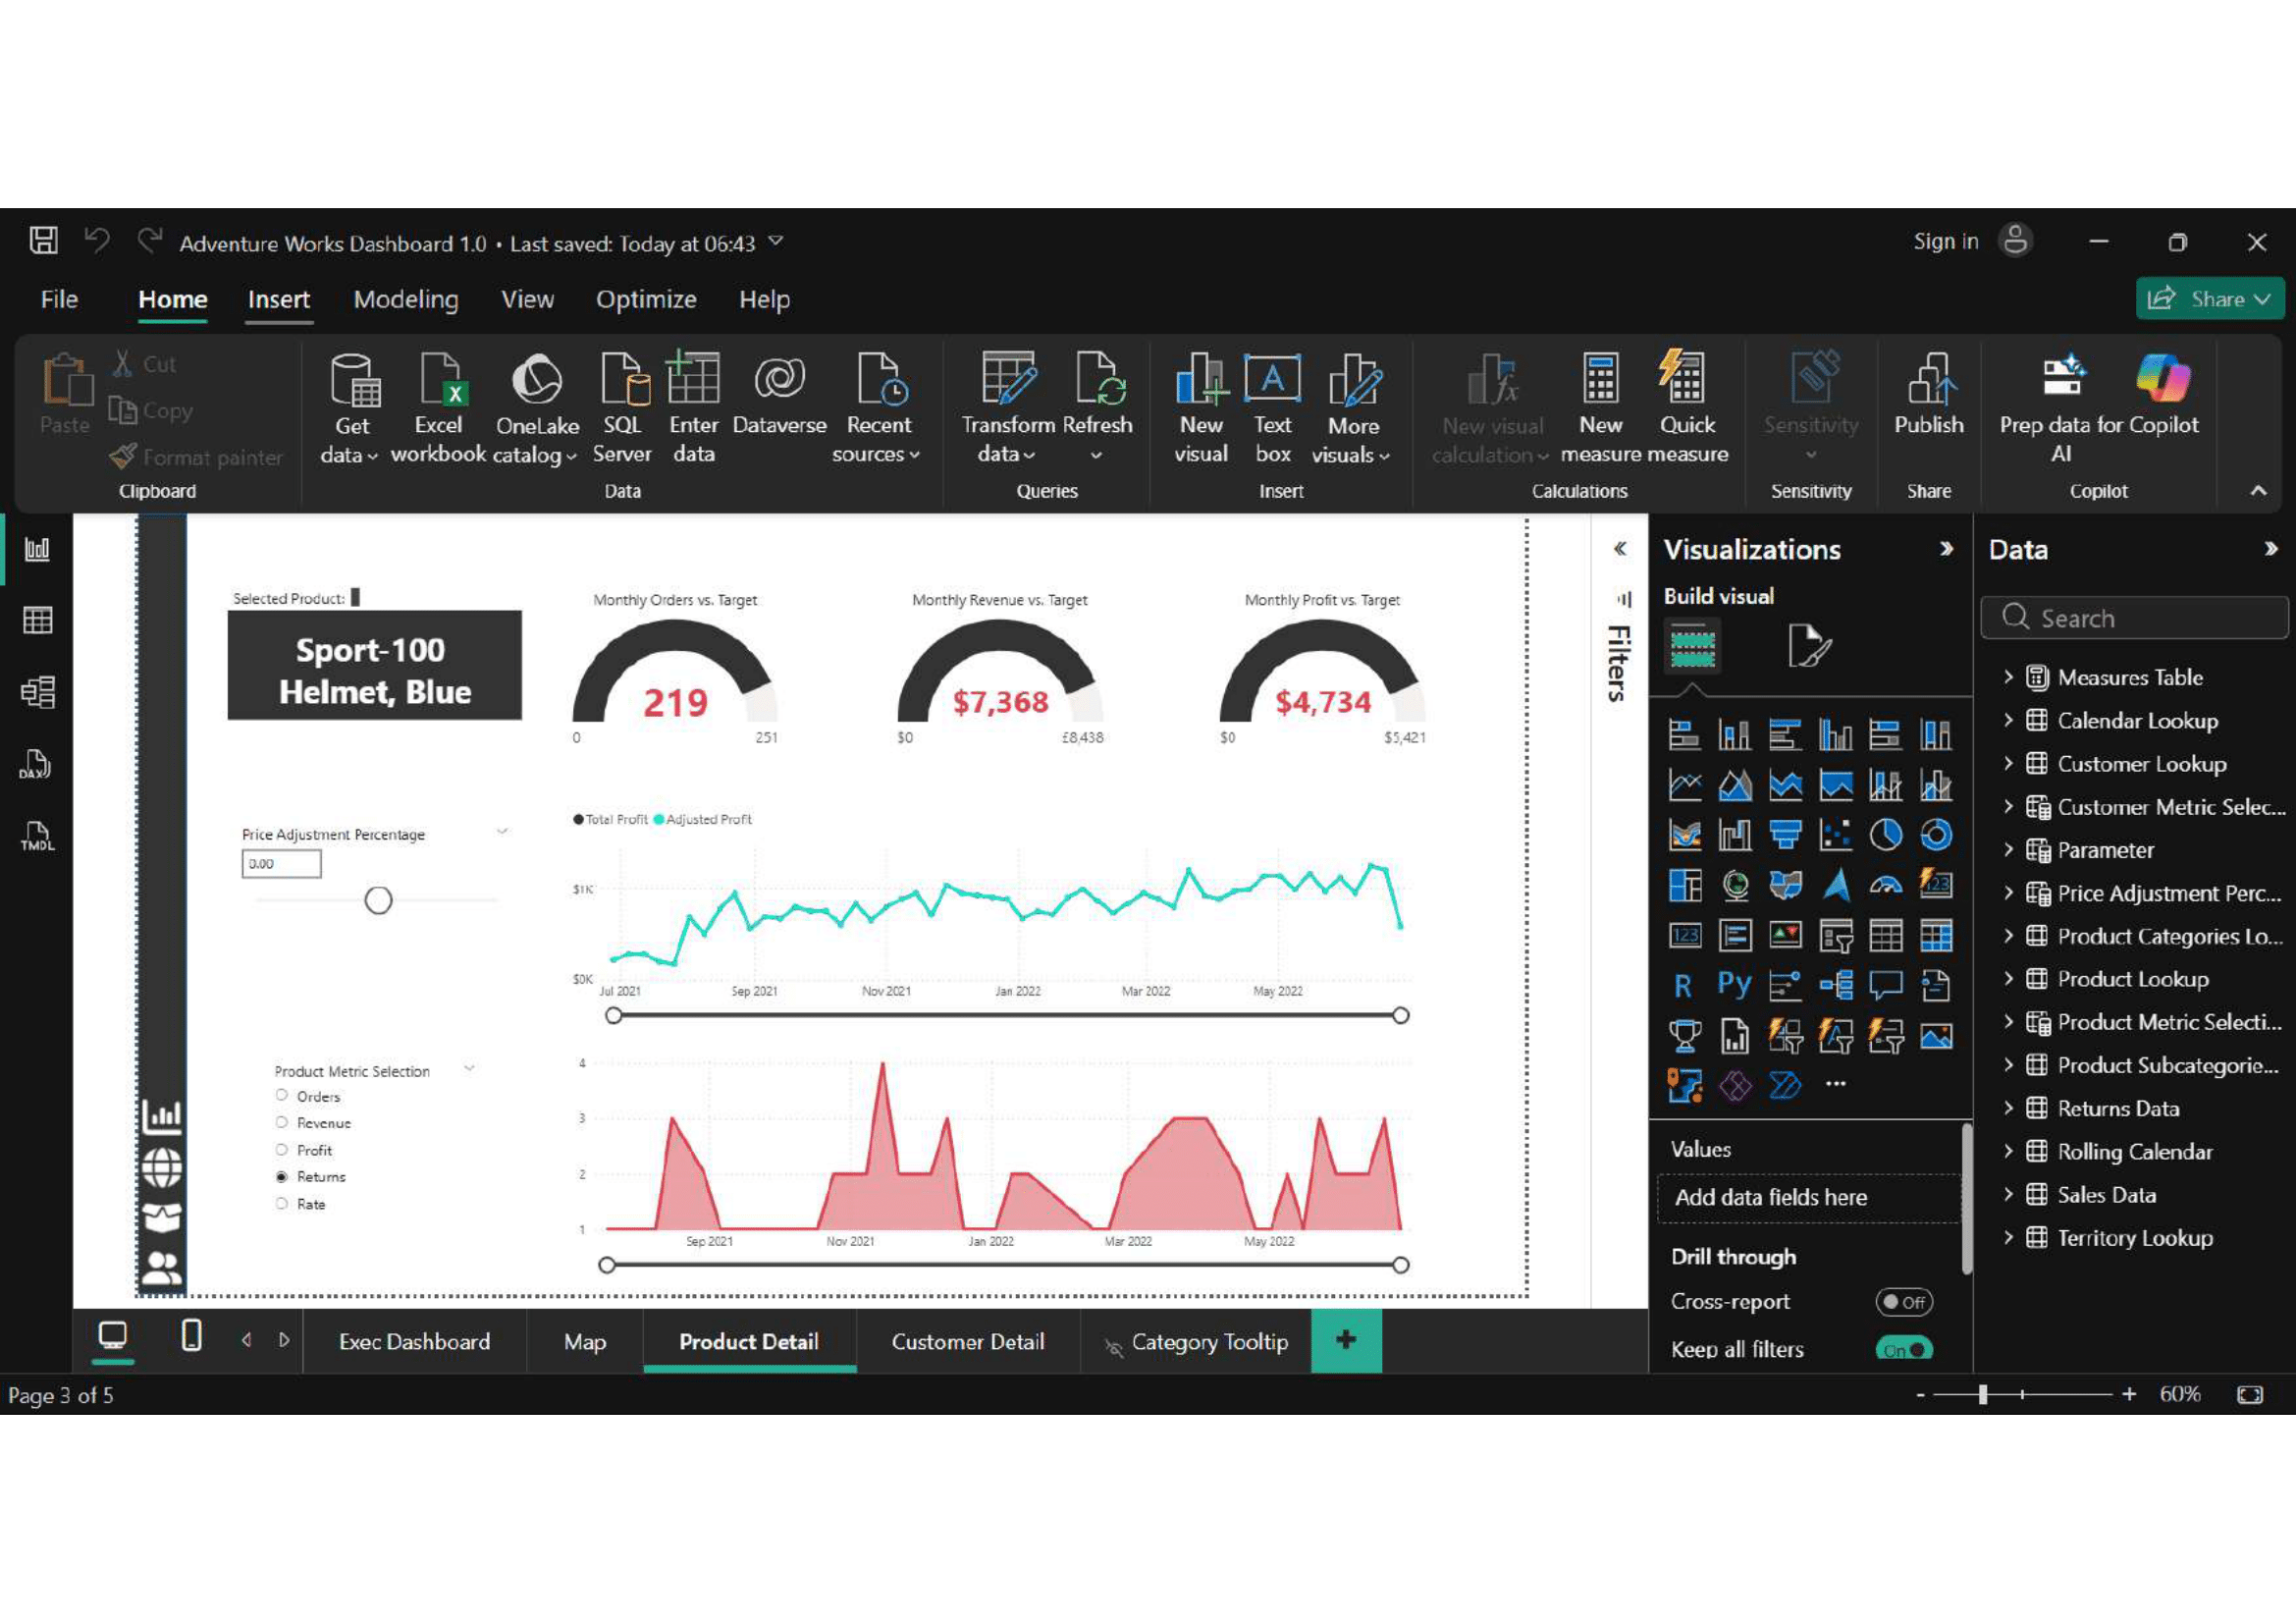

This screenshot's page, from the dashboard's own definition file:
{"tool":"powerbi","page":{"name":"Product Detail","canvas":[1280,720],"ordinal":2},"visuals":[{"type":"shape","title":"Left Nav Background","box":[0,0,45,720],"z":0},{"type":"actionButton","box":[0,533.7,44.8,46.6],"z":0,"group":"g1"},{"type":"gauge","title":"Monthly Orders vs. Target","fields":{"Y":["Measures Table.Total Orders"],"MaxValue":["Measures Table.Order Target"]},"box":[395.8,69,200.6,159.4],"z":1000},{"type":"actionButton","box":[0,580.3,44.8,46.6],"z":1000,"group":"g1"},{"type":"gauge","title":"Monthly Revenue vs. Target","fields":{"Y":["Measures Table.Total Revenue"],"MaxValue":["Measures Table.Revenue Target"]},"box":[694.9,69,200.6,159.4],"z":2000},{"type":"actionButton","box":[0,626.8,44.8,46.6],"z":2000,"group":"g1"},{"type":"gauge","title":"Monthly Profit vs. Target","fields":{"Y":["Measures Table.Total Profit"],"MaxValue":["Measures Table.Profit Target"]},"box":[994,69,200.6,159.4],"z":3000},{"type":"actionButton","box":[0,673.4,44.8,46.6],"z":3000,"group":"g1"},{"type":"lineChart","title":"Profit Trending","fields":{"Category":["Calendar Lookup.Date Hierarchy.Start of Year","Calendar Lookup.Date Hierarchy.Start of Month","Calendar Lookup.Date Hierarchy.Start of Week","Calendar Lookup.Date Hierarchy.Date"],"Y":["Measures Table.Total Profit","Measures Table.Adjusted Profit"]},"box":[395.8,262.4,798.8,211.3],"z":4000},{"type":"areaChart","title":"Returns Trending","fields":{"Y":["Measures Table.Total Returns"],"Category":["Calendar Lookup.Date Hierarchy.Start of Year","Calendar Lookup.Date Hierarchy.Start of Month","Calendar Lookup.Date Hierarchy.Start of Week","Calendar Lookup.Date Hierarchy.Date"]},"box":[395.8,492.5,798.8,211.3],"z":5000},{"type":"card","fields":{"Values":["Min(Product Lookup.ProductName)"]},"box":[82.4,89.6,271.3,100.3],"z":6000},{"type":"textbox","box":[82.4,62.7,127.2,26.9],"z":7000},{"type":"group","id":"g1","title":"Navigation Buttons","box":[0,533.7,44.8,186.3],"z":8000},{"type":"slicer","fields":{"Values":["Price Adjustment Percentage.Price Adjustment Percentage"]},"box":[82.4,280.3,271.3,154.9],"z":9000},{"type":"slicer","fields":{"Values":["Product Metric Selection.Product Metric Selection"]},"box":[112.8,498.8,211.3,163],"z":10000}]}

Visuals, with their boxes on the page's 1280x720 design canvas (x1, y1, x2, y2). These are canvas units, not pixel positions in the 2296x1623 screenshot, which may show the page scaled, cropped or inside an application window:
"Left Nav Background" shape: box=[0, 0, 45, 720]
actionButton: box=[0, 534, 45, 580]
"Monthly Orders vs. Target" gauge: box=[396, 69, 596, 228]
actionButton: box=[0, 580, 45, 627]
"Monthly Revenue vs. Target" gauge: box=[695, 69, 896, 228]
actionButton: box=[0, 627, 45, 673]
"Monthly Profit vs. Target" gauge: box=[994, 69, 1195, 228]
actionButton: box=[0, 673, 45, 720]
"Profit Trending" lineChart: box=[396, 262, 1195, 474]
"Returns Trending" areaChart: box=[396, 492, 1195, 704]
card - Min(Product Lookup.ProductName): box=[82, 90, 354, 190]
textbox: box=[82, 63, 210, 90]
"Navigation Buttons" group: box=[0, 534, 45, 720]
slicer - Price Adjustment Percentage.Price Adjustment Percentage: box=[82, 280, 354, 435]
slicer - Product Metric Selection.Product Metric Selection: box=[113, 499, 324, 662]
